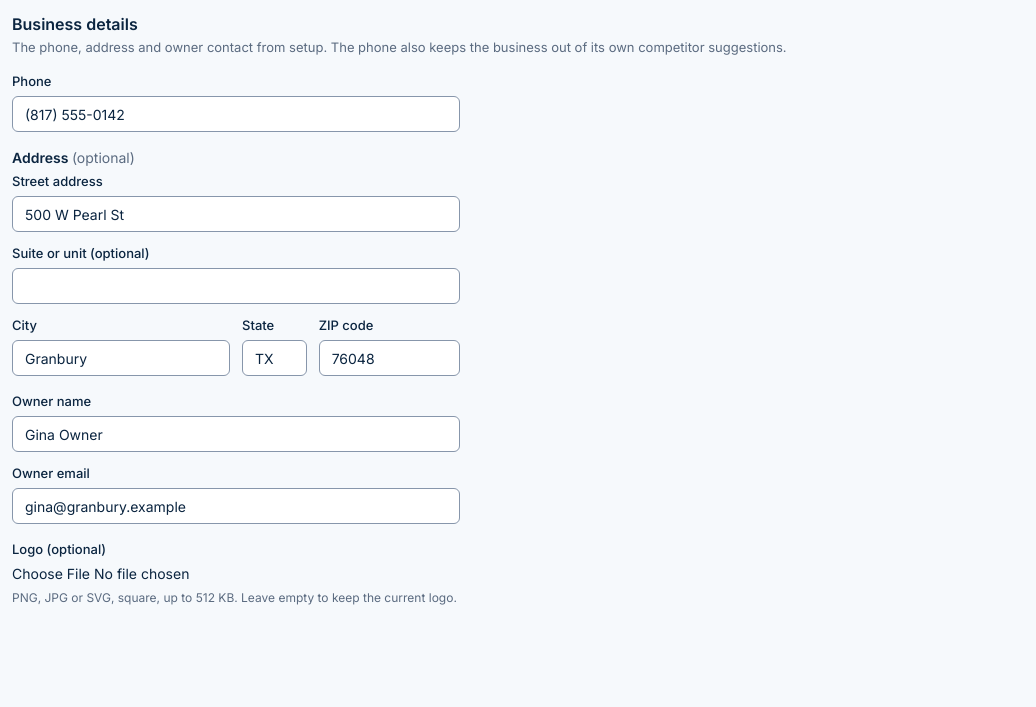
Test case: ClientDetailsForm (final fix I3) › shows Save details only after a change; Discard restores the values and hides it
The width and height of the screenshot is (1036, 707).
Check: the button "Save details" is not shown
Step 1. Replace the text in the field labelled "Phone" with "000" → x=236, y=114, box 12,96 -> 460,132
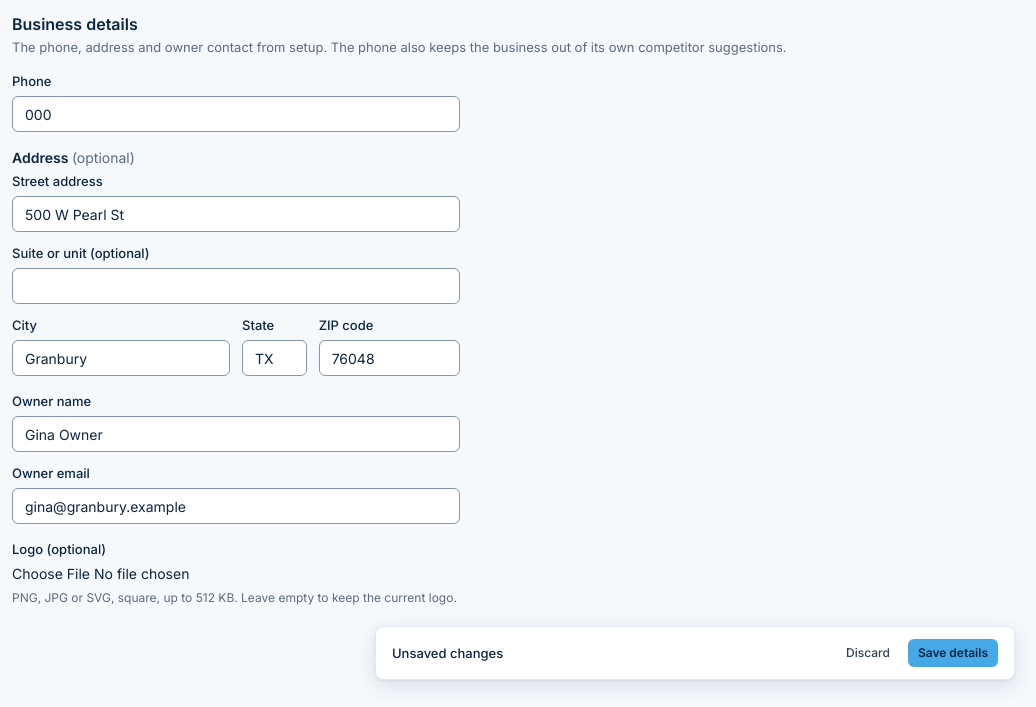
Check: the button "Save details" is shown, box 908,639 -> 998,667
Step 2. Click the button "Discard" → x=868, y=653, box 836,639 -> 900,667
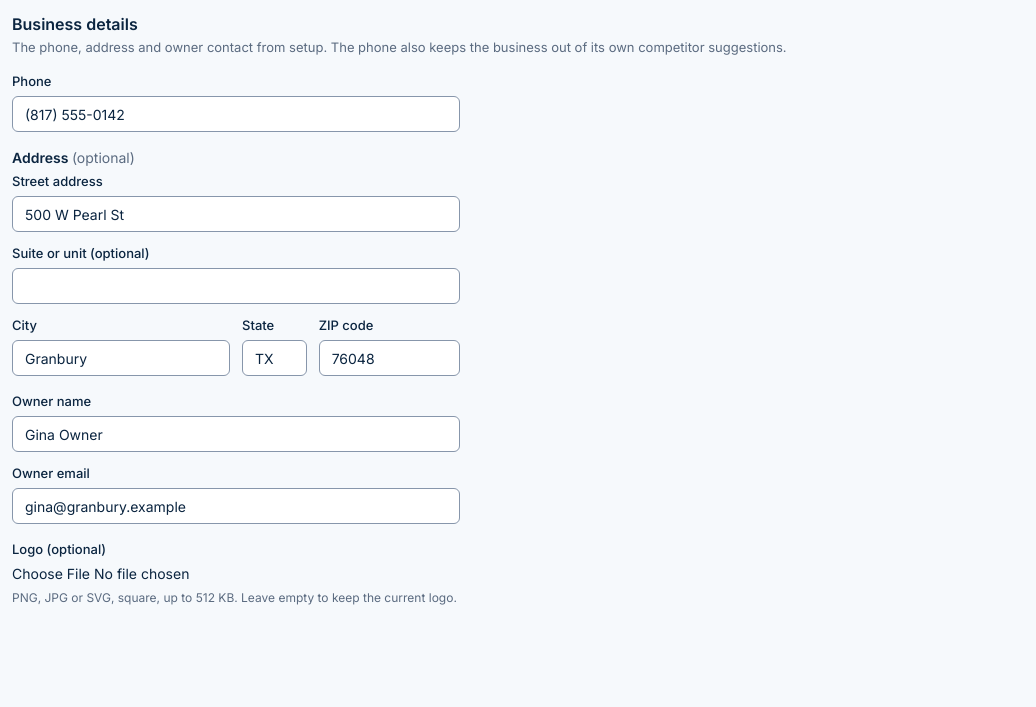
Check: the field labelled "Phone" holds "(817) 555-0142", box 12,96 -> 460,132
Check: the button "Save details" is gone
